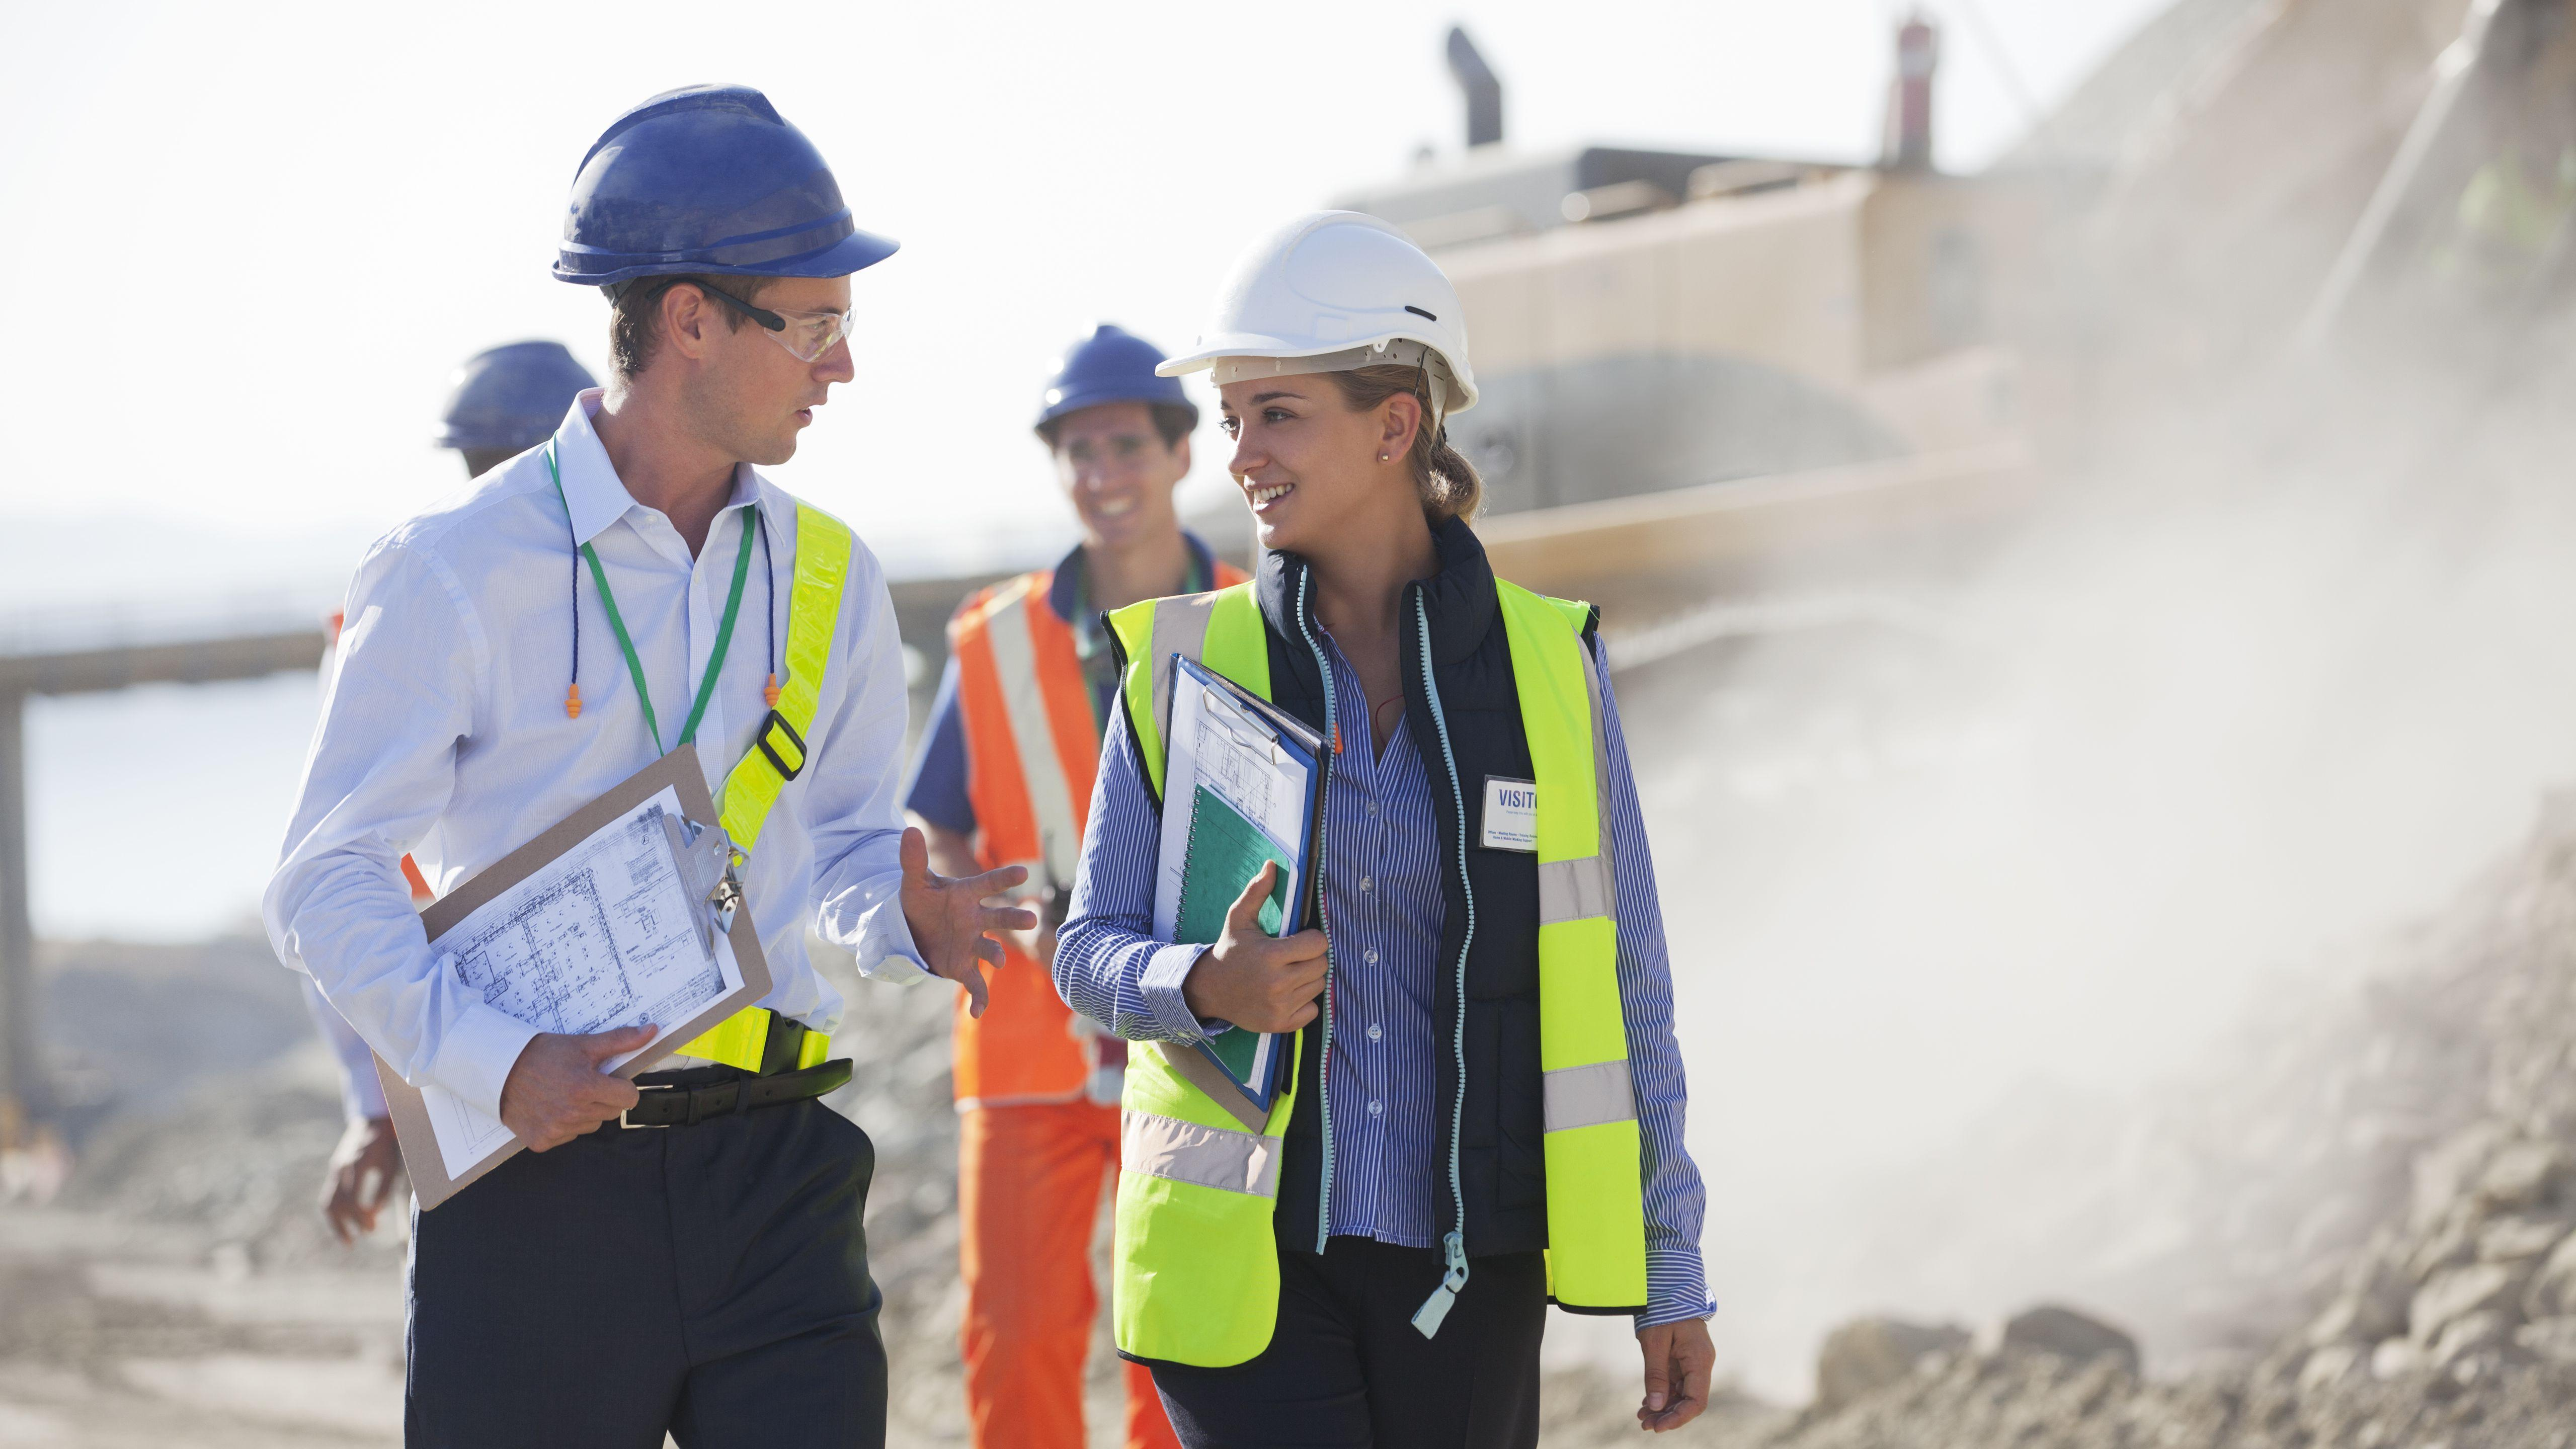helmet: (550, 88, 883, 287), (1198, 218, 1483, 389), (432, 336, 603, 464), (1033, 327, 1194, 433)
